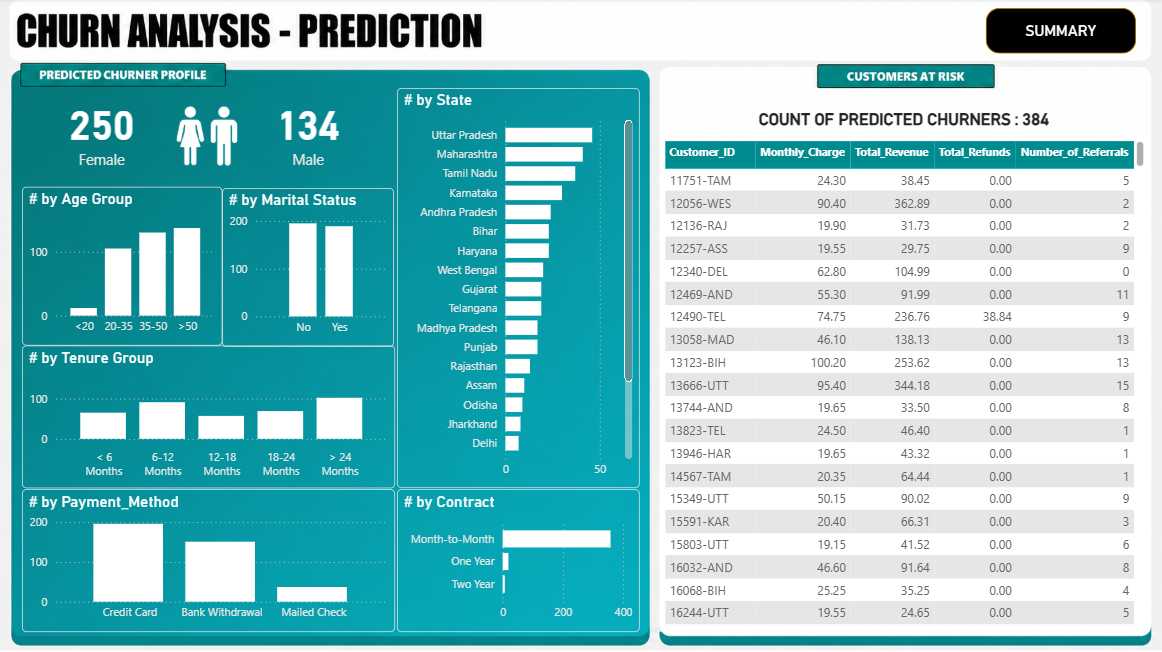

This screenshot's page, from the dashboard's own definition file:
{"tool":"powerbi","page":{"name":"Churn Prediction","canvas":[1280,720],"ordinal":2},"visuals":[{"type":"image","box":[164,109.8,130.9,82.7],"z":0},{"type":"tableEx","fields":{"Values":["Predictions.Customer_ID","Predictions.Monthly_Charge","Predictions.Total_Revenue","Predictions.Total_Refunds","Predictions.Number_of_Referrals"]},"box":[727.9,152.3,537.1,543.1],"z":1000},{"type":"cardVisual","fields":{"Data":["tbl_Measures.Title Predicted Churner"]},"box":[812.4,109.8,367.1,45.1],"z":2000},{"type":"cardVisual","fields":{"Data":["tbl_Measures.Count Predicted Churner"]},"box":[54.2,99.3,123.4,105.3],"z":3000},{"type":"cardVisual","fields":{"Data":["tbl_Measures.Count Predicted Churner"]},"box":[279.8,99.3,123.4,105.3],"z":4000},{"type":"columnChart","fields":{"Category":["mapping_AgeGrp.Age Group"],"Y":["CountNonNull(Predictions.Customer_ID)"]},"box":[27.1,207.6,220,174.5],"z":5000},{"type":"columnChart","fields":{"Y":["CountNonNull(Predictions.Customer_ID)"],"Category":["Predictions.Married"]},"box":[247,208,189,174],"z":6000},{"type":"columnChart","fields":{"Y":["CountNonNull(Predictions.Customer_ID)"],"Category":["mapping_TenureGrp.Tenure Group"]},"box":[27.1,382.1,409.2,156.5],"z":7000},{"type":"columnChart","fields":{"Y":["CountNonNull(Predictions.Customer_ID)"],"Category":["Predictions.Payment_Method"]},"box":[27.1,538.6,409.2,156.5],"z":8000},{"type":"clusteredBarChart","fields":{"Category":["Predictions.Contract"],"Y":["CountNonNull(Predictions.Customer_ID)"]},"box":[439.3,538.6,266.3,156.5],"z":9000},{"type":"clusteredBarChart","fields":{"Category":["Predictions.State"],"Y":["CountNonNull(Predictions.Customer_ID)"]},"box":[439.3,99.3,266.3,439.3],"z":10000},{"type":"shape","box":[1085,10.5,165,50],"z":11000}]}

Visuals, with their boxes in screenshot pixels (x1, y1, x2, y2), scaled from the page's 1280x720 canvas onto the 1162x652 screenshot:
image: (left=149, top=99, right=268, bottom=174)
tableEx - Predictions.Customer_ID x Predictions.Monthly_Charge: (left=661, top=138, right=1148, bottom=630)
cardVisual - tbl_Measures.Title Predicted Churner: (left=738, top=99, right=1071, bottom=140)
cardVisual - tbl_Measures.Count Predicted Churner: (left=49, top=90, right=161, bottom=185)
cardVisual - tbl_Measures.Count Predicted Churner: (left=254, top=90, right=366, bottom=185)
columnChart - mapping_AgeGrp.Age Group x CountNonNull(Predictions.Customer_ID): (left=25, top=188, right=224, bottom=346)
columnChart - CountNonNull(Predictions.Customer_ID) x Predictions.Married: (left=224, top=188, right=396, bottom=346)
columnChart - CountNonNull(Predictions.Customer_ID) x mapping_TenureGrp.Tenure Group: (left=25, top=346, right=396, bottom=488)
columnChart - CountNonNull(Predictions.Customer_ID) x Predictions.Payment_Method: (left=25, top=488, right=396, bottom=629)
clusteredBarChart - Predictions.Contract x CountNonNull(Predictions.Customer_ID): (left=399, top=488, right=641, bottom=629)
clusteredBarChart - Predictions.State x CountNonNull(Predictions.Customer_ID): (left=399, top=90, right=641, bottom=488)
shape: (left=985, top=10, right=1135, bottom=55)
